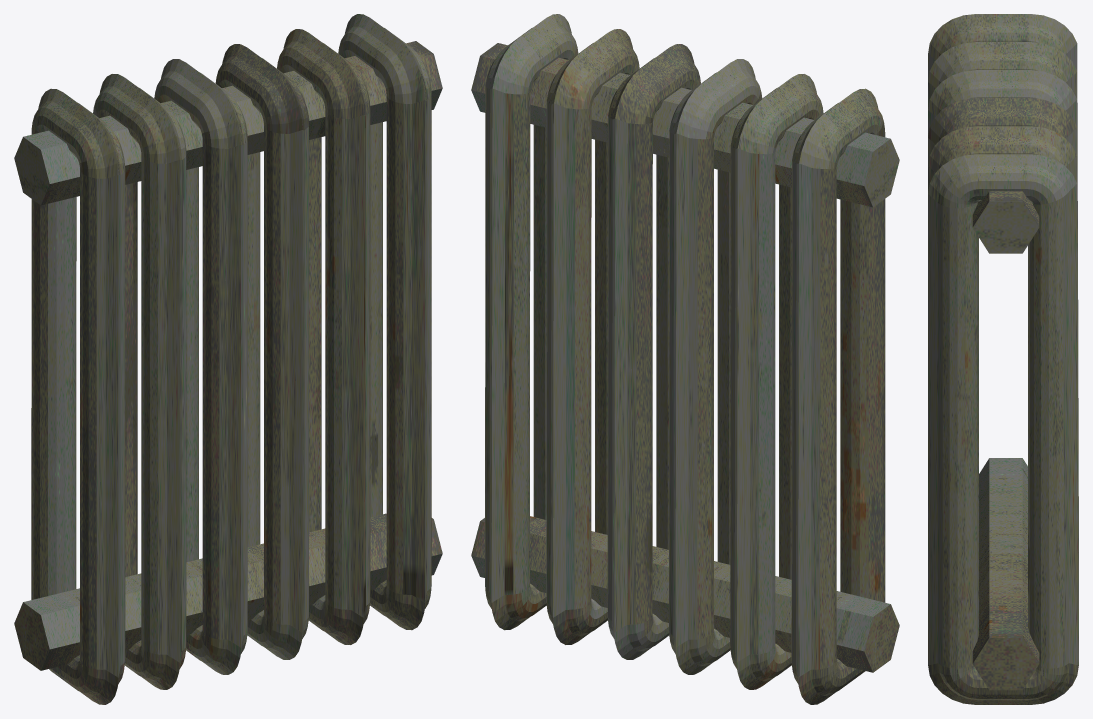
File: battery.glb
3 views of the same model, side by side, from view 1: azimuth 30°, elevation 25°; view 2: azimuth 150°, elevation 25°; view 3: azimuth 270°, elevation 25° (orthographic). The views are drawn at different scales.
Parts seen in each view (by area): view 1: env_battery-col; view 2: env_battery-col; view 3: env_battery-col.
Part boxes in pixels (<box>): env_battery-col: <box>14,14,442,704</box>; env_battery-col: <box>471,14,899,704</box>; env_battery-col: <box>928,14,1078,704</box>.
Size of the model in its own units: 1.39 by 1.98 by 0.4923.
1 material, 1 textured.
